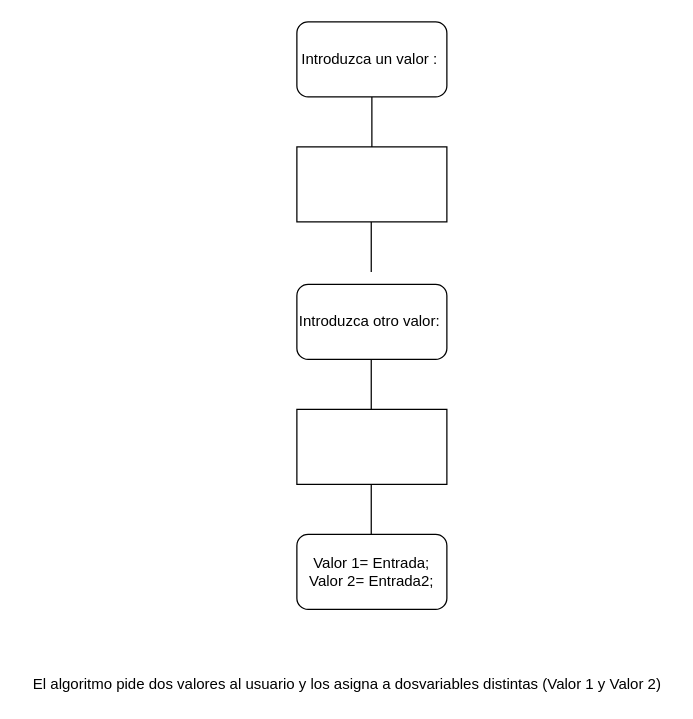
Image size: 693x719. Some labels were removed from this diagram. The centre of each missing label's shape, as x and y in pixels:
Entrada entero; Valor 1 = Entrada;: point (371, 184)
Entrada2 entero; Valor 2= Entrada2;: point (371, 446)
